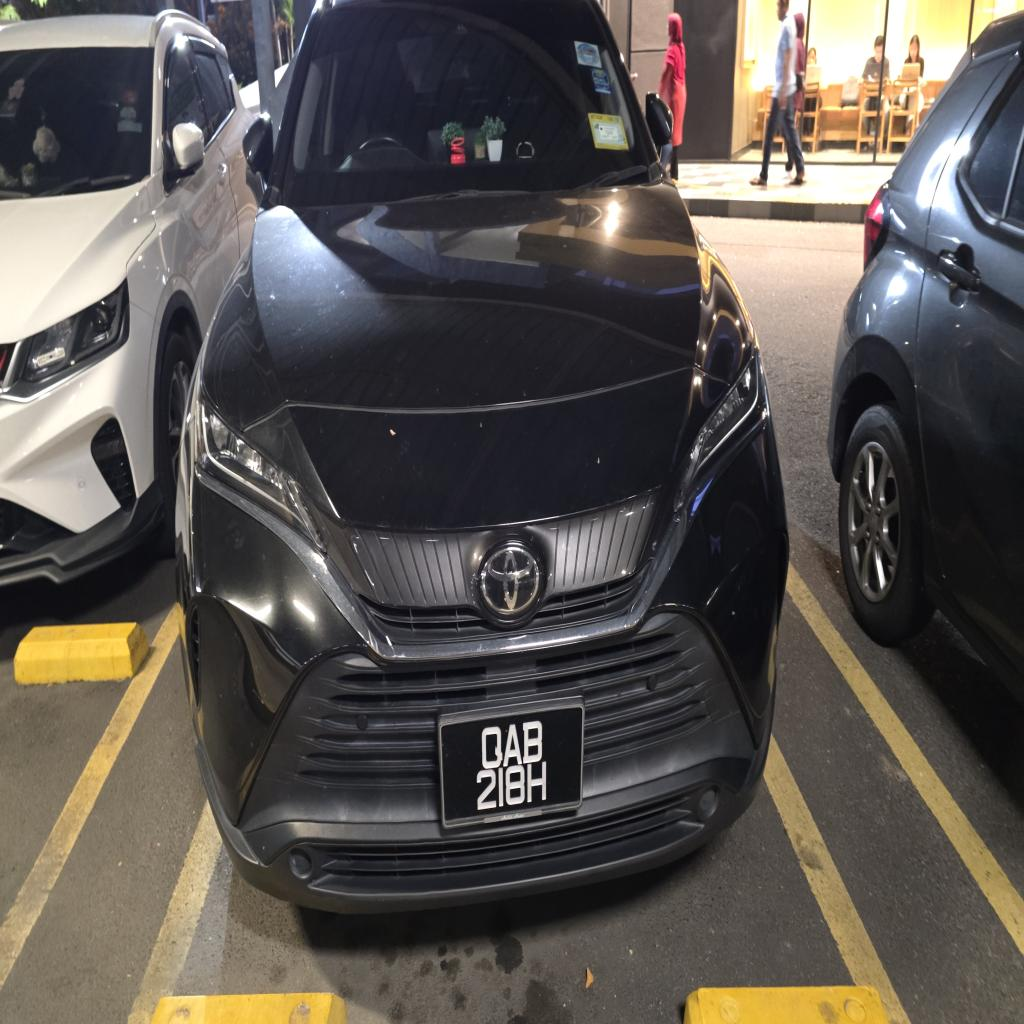car: (176, 0, 788, 910)
car plate: (439, 700, 583, 826)
